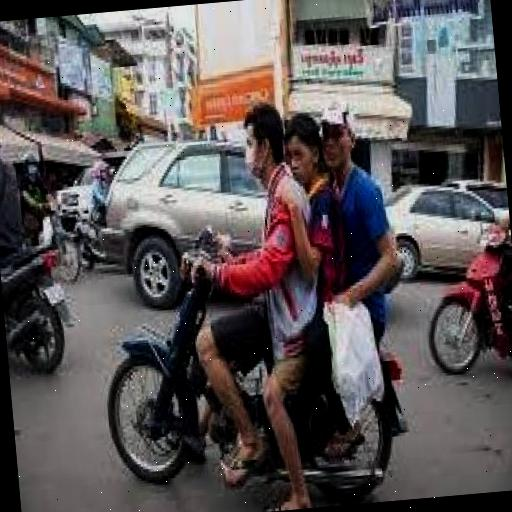no helmet: (226, 97, 302, 199)
triple riding: (80, 77, 419, 512)
